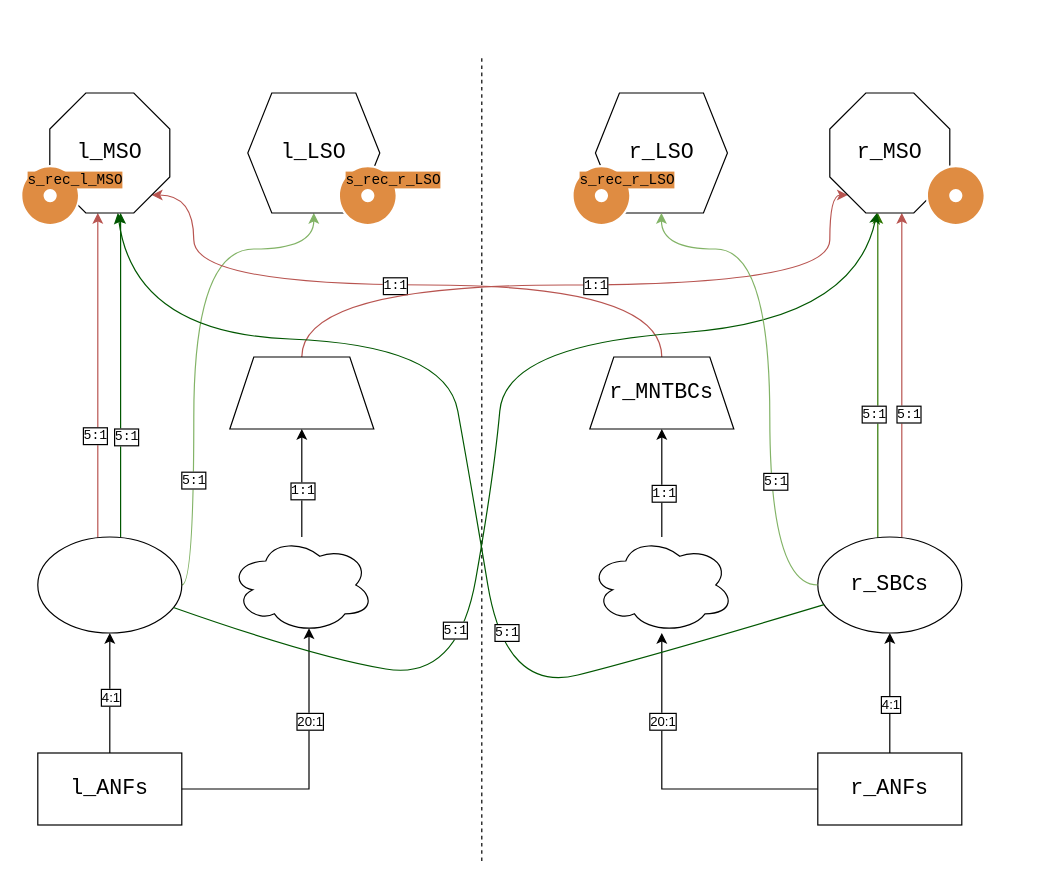
Some shapes in this 1050 by 883 pixel diagram are drawn without their labels. Here are the shapes that lost their labels. From the top down, the centre of each, then its label:
point (955, 195): s_rec_r_MSO
point (301, 392): l_MNTBCs
point (109, 584): l_SBCs
point (301, 584): l_GBCs
point (661, 584): r_GBCs
